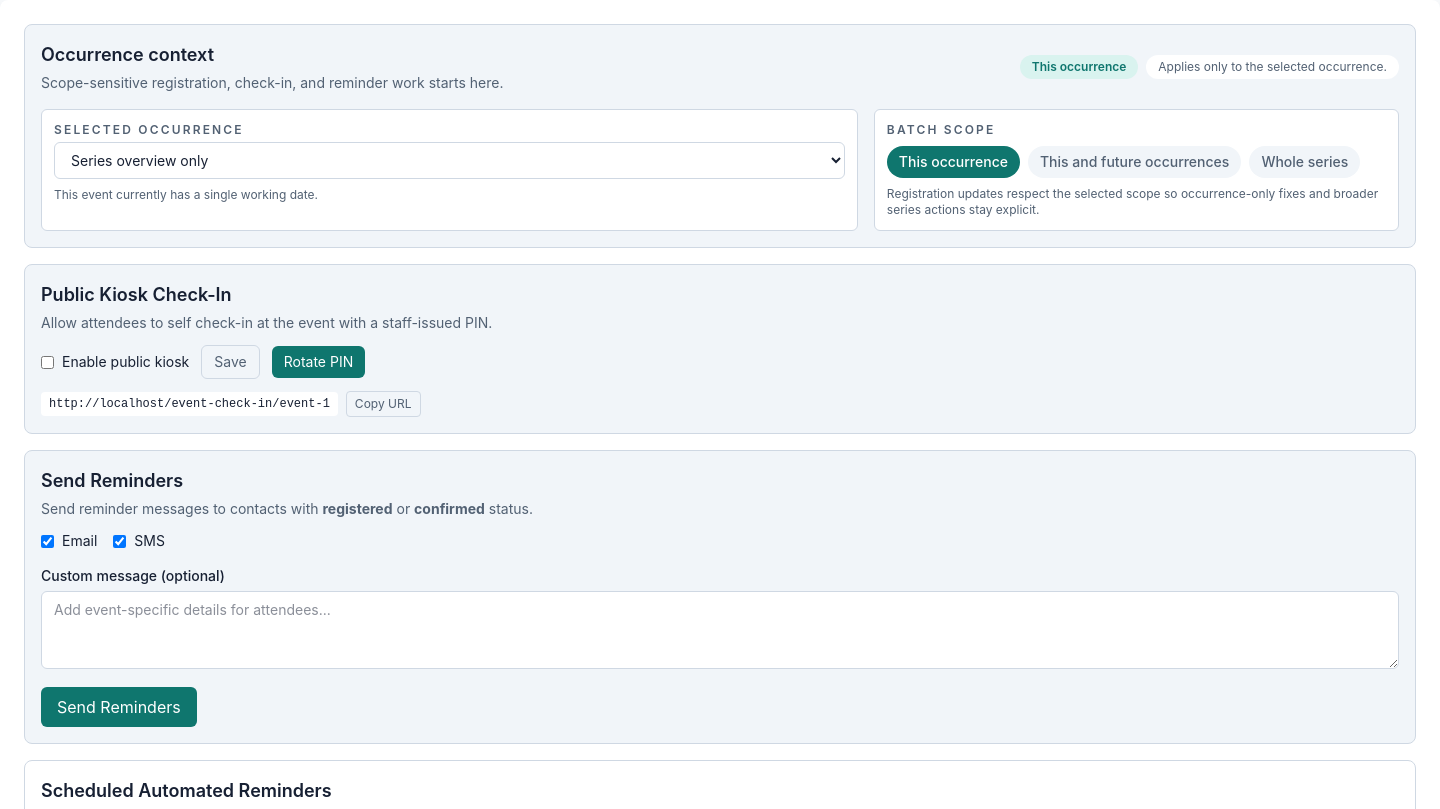
Test: EventRegistrationsPanel › updates kiosk settings and rotates PIN
Click the checkbox labelled "Enable public kiosk" at (48, 362), box [41,356,54,368]
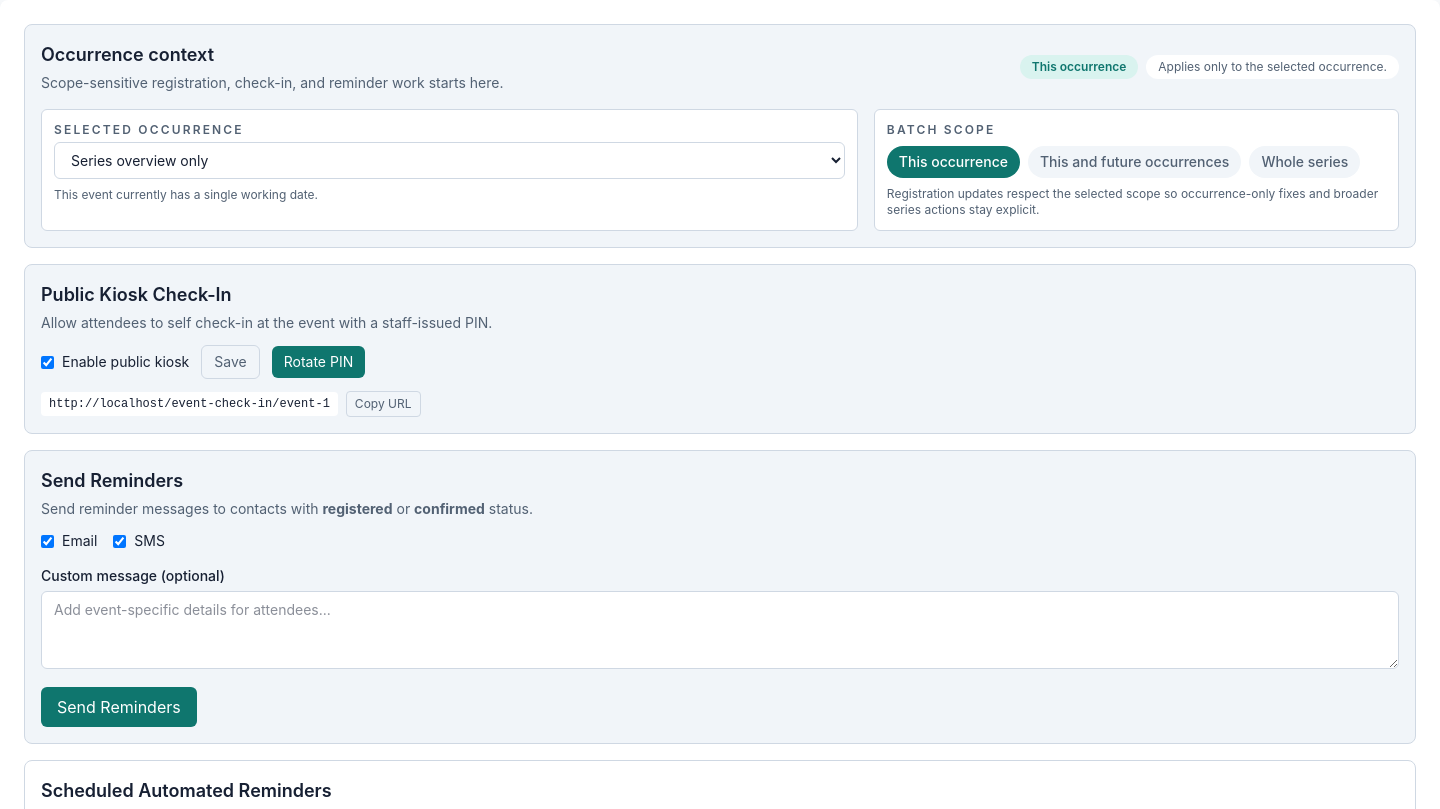
Click the button "Save" at (230, 362), box [201,345,260,379]
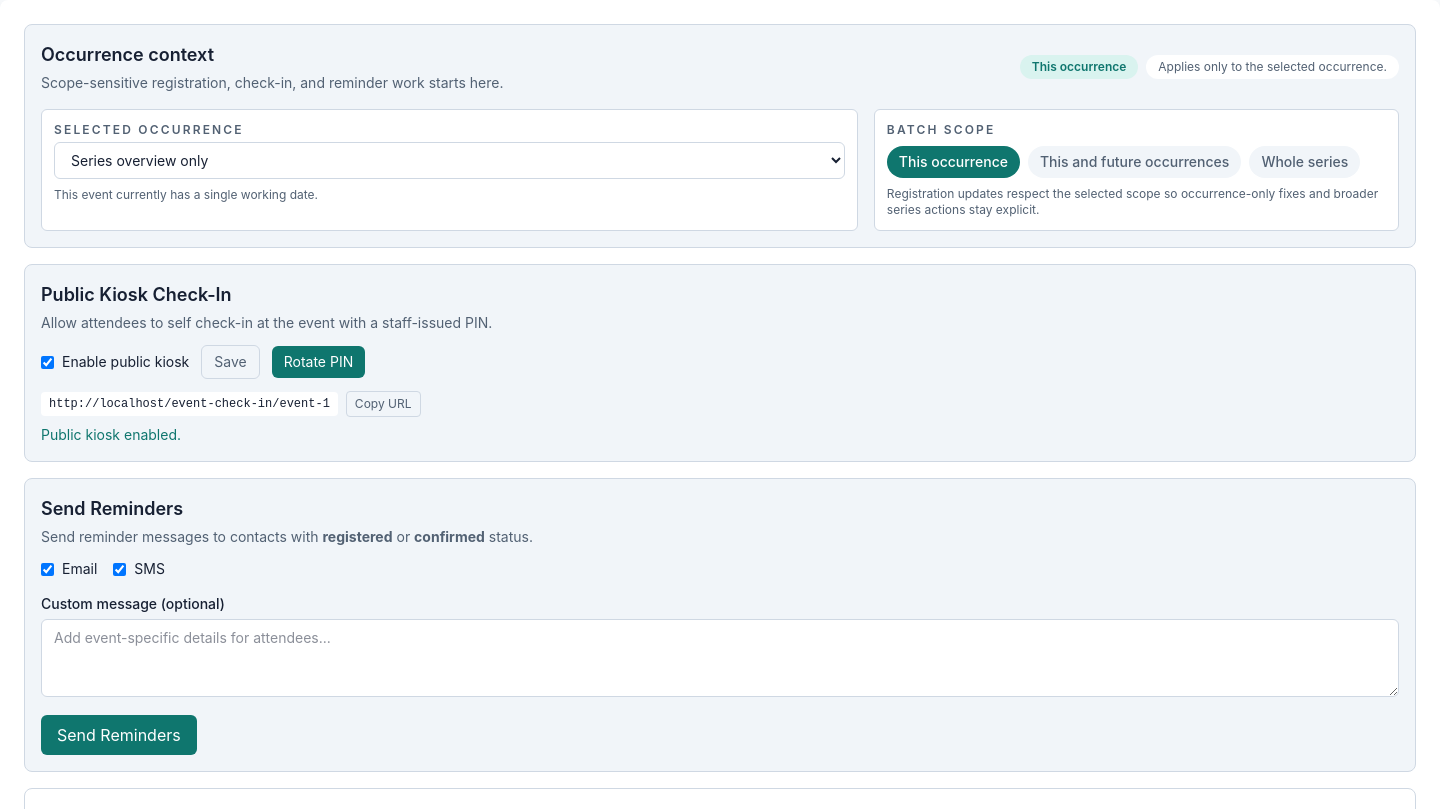
Result: the text "Public kiosk enabled." is shown at [41,426,181,443]
Click the button "Rotate PIN" at (318, 362), box [272,346,365,378]
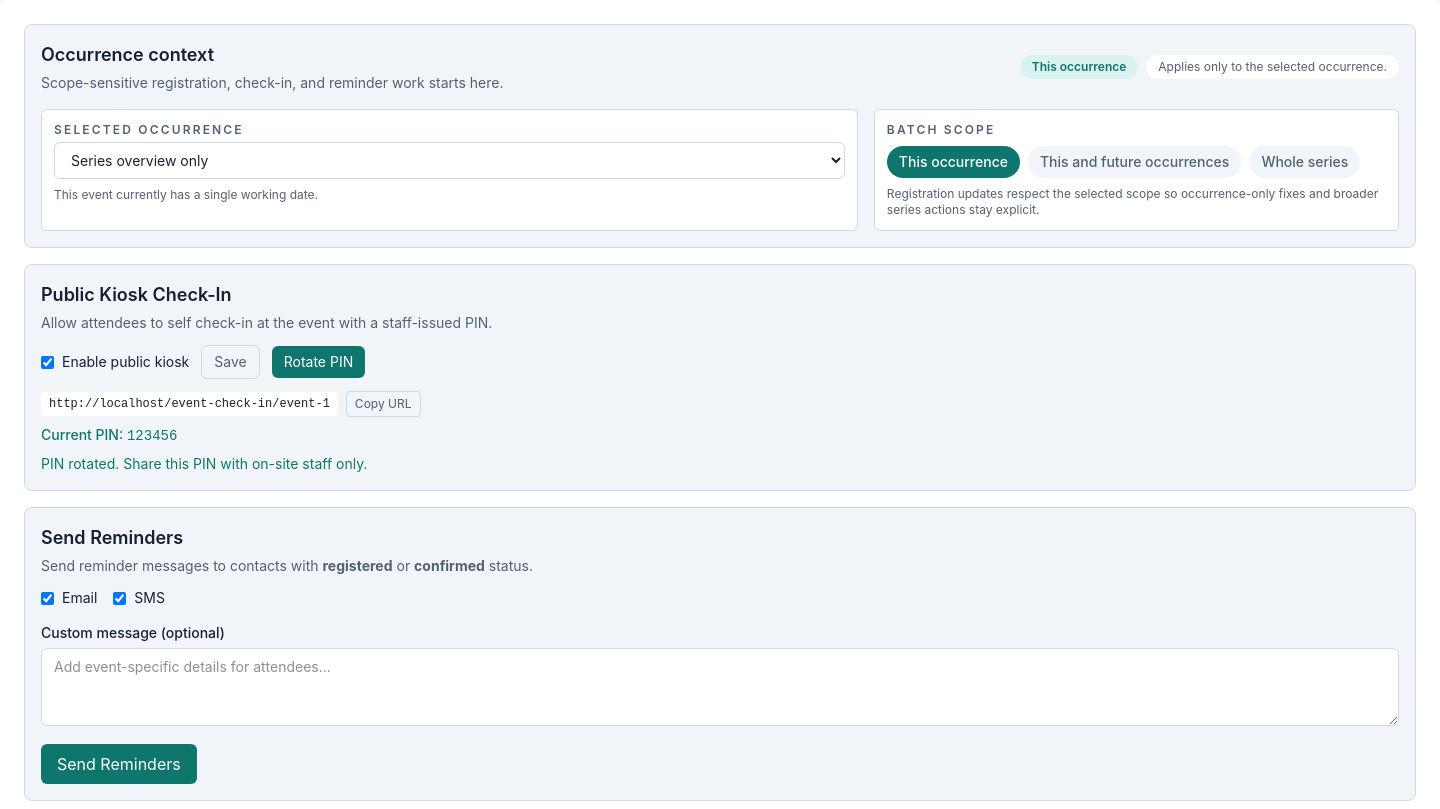
Result: the text "Current PIN: 123456" is shown at [41,426,177,444]
Result: the text "PIN rotated. Share this PIN with on-site staff only." is shown at [41,455,367,472]
